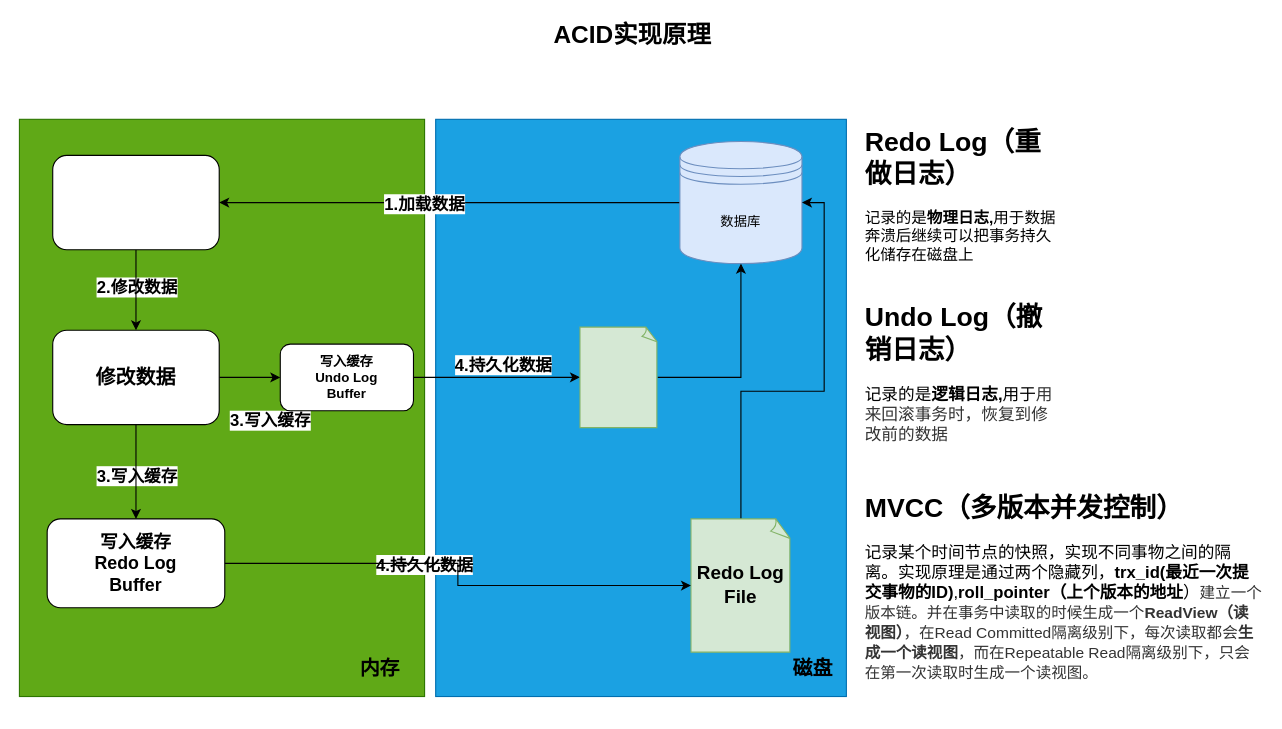
Image size: 1282x729. Some labels were removed from this diagram. The shapes that lost their labels are listed below. From the top down, each one's centre as x and y in pixels, then its label:
[135,202]: 查询数据
[618,377]: Undo Log File
